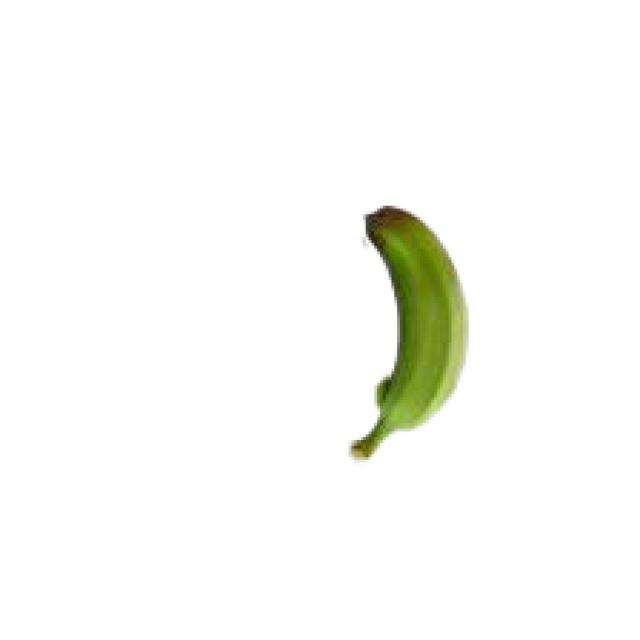fresh-banana: (346, 203, 468, 457)
